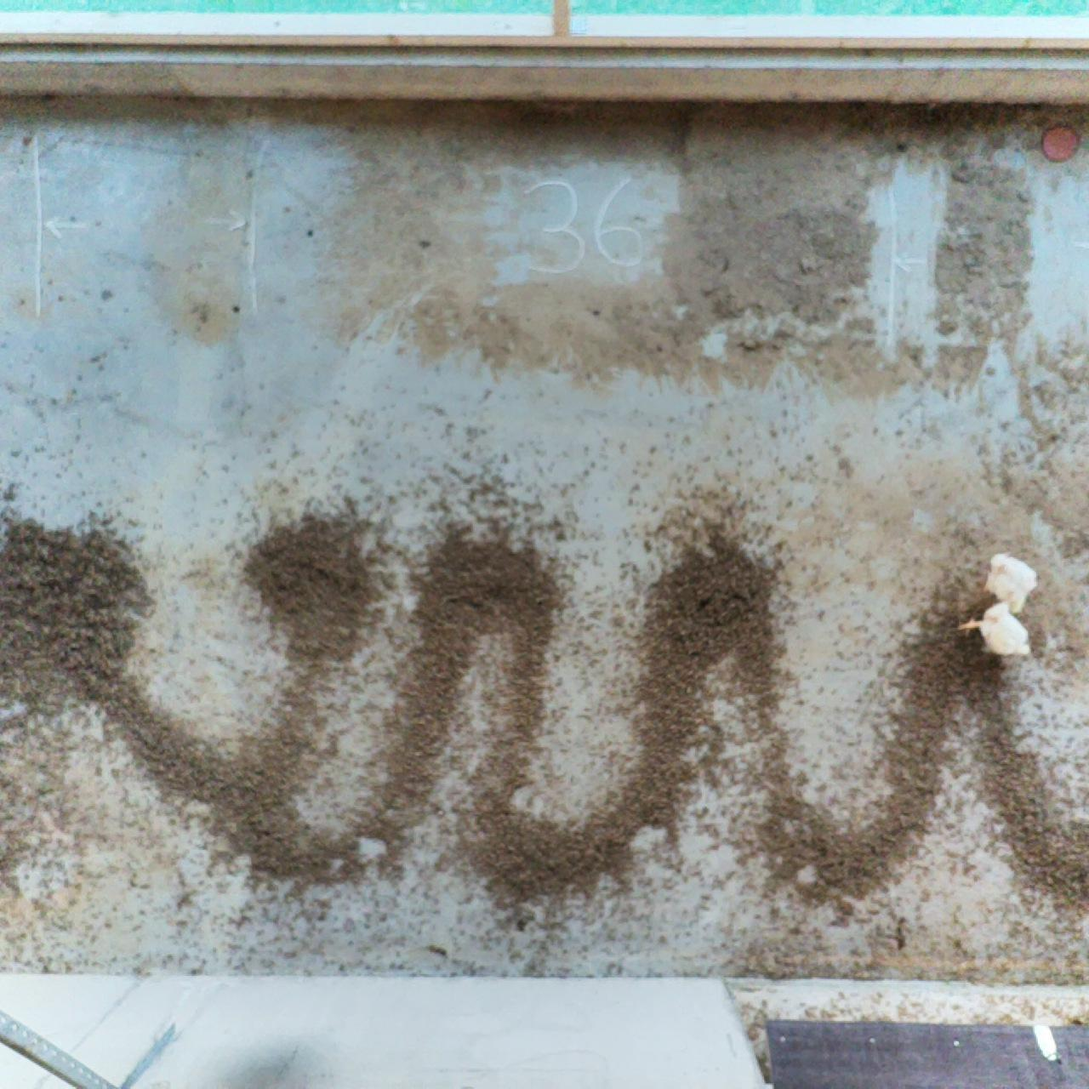chicken: (955, 596, 1033, 660), (981, 549, 1042, 615)
